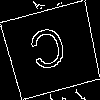C: (26, 25, 72, 80)
